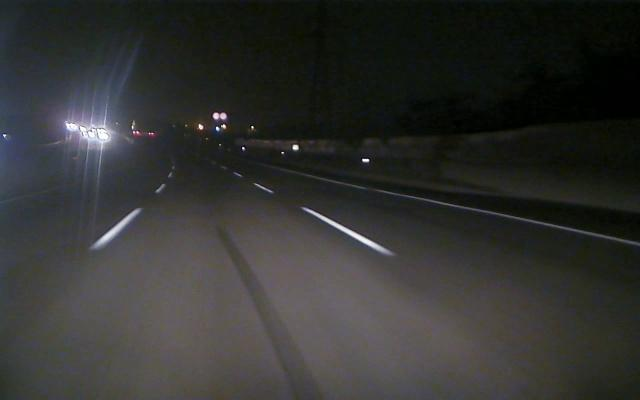lane: (345, 183, 638, 248), (253, 181, 402, 258), (91, 184, 166, 249)
